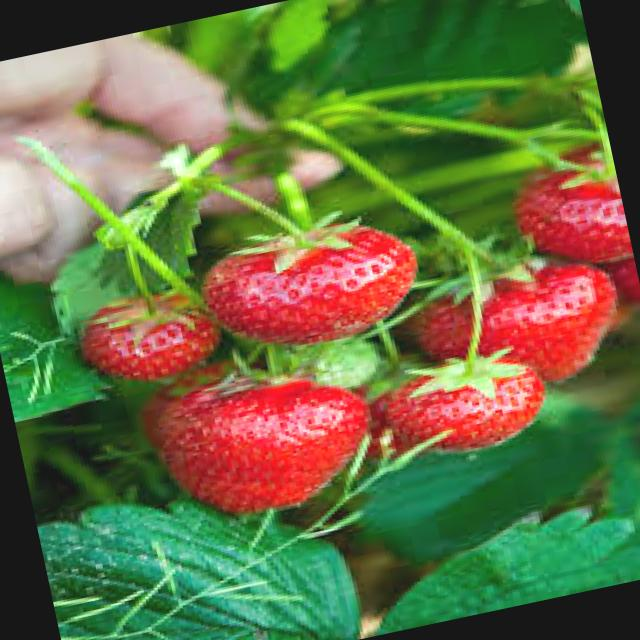strawberry: (158, 155, 450, 370), (396, 229, 634, 410), (158, 349, 378, 531), (380, 334, 536, 462), (66, 280, 210, 386)
